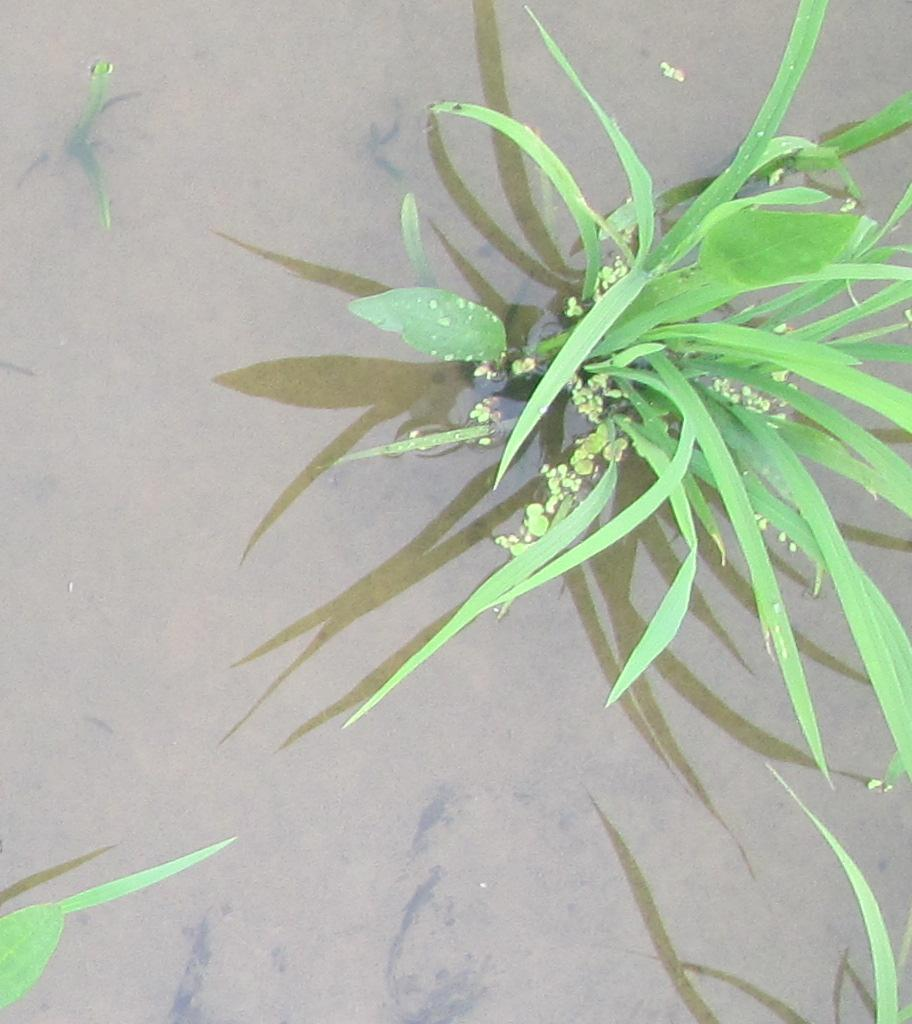Weed: (348, 272, 514, 380), (702, 205, 869, 288)
